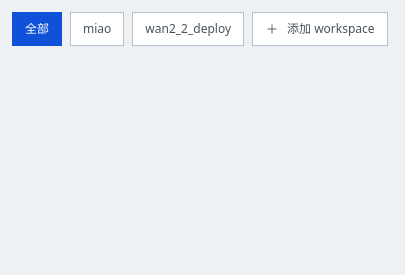
Test: WorkspaceChips › disables submit until both alias and path are filled
Click the button "添加 workspace".
click(320, 29)  # box [252,12,388,46]
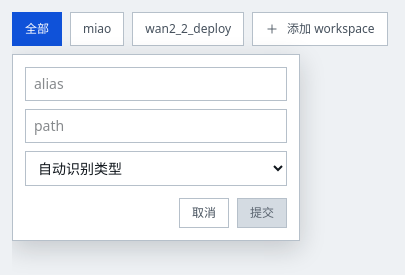
expect the button with test id "add-ws-submit" is disabled: met, box [237,198,287,228]
Type "new-ws" into the field with test id "add-ws-alias".
click(156, 84); type("new-ws")  # box [25,67,287,101]
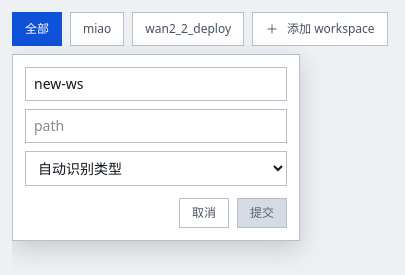
expect the button with test id "add-ws-submit" is disabled: met, box [237,198,287,228]
Type "/x/new" into the field with test id "add-ws-path".
click(156, 126); type("/x/new")  # box [25,109,287,143]
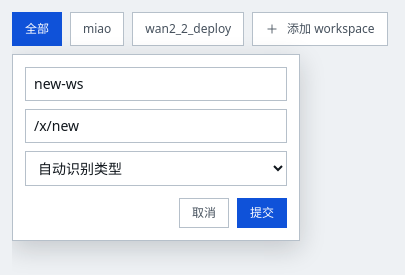
expect the button with test id "add-ws-submit" is enabled: met, box [237,198,287,228]
